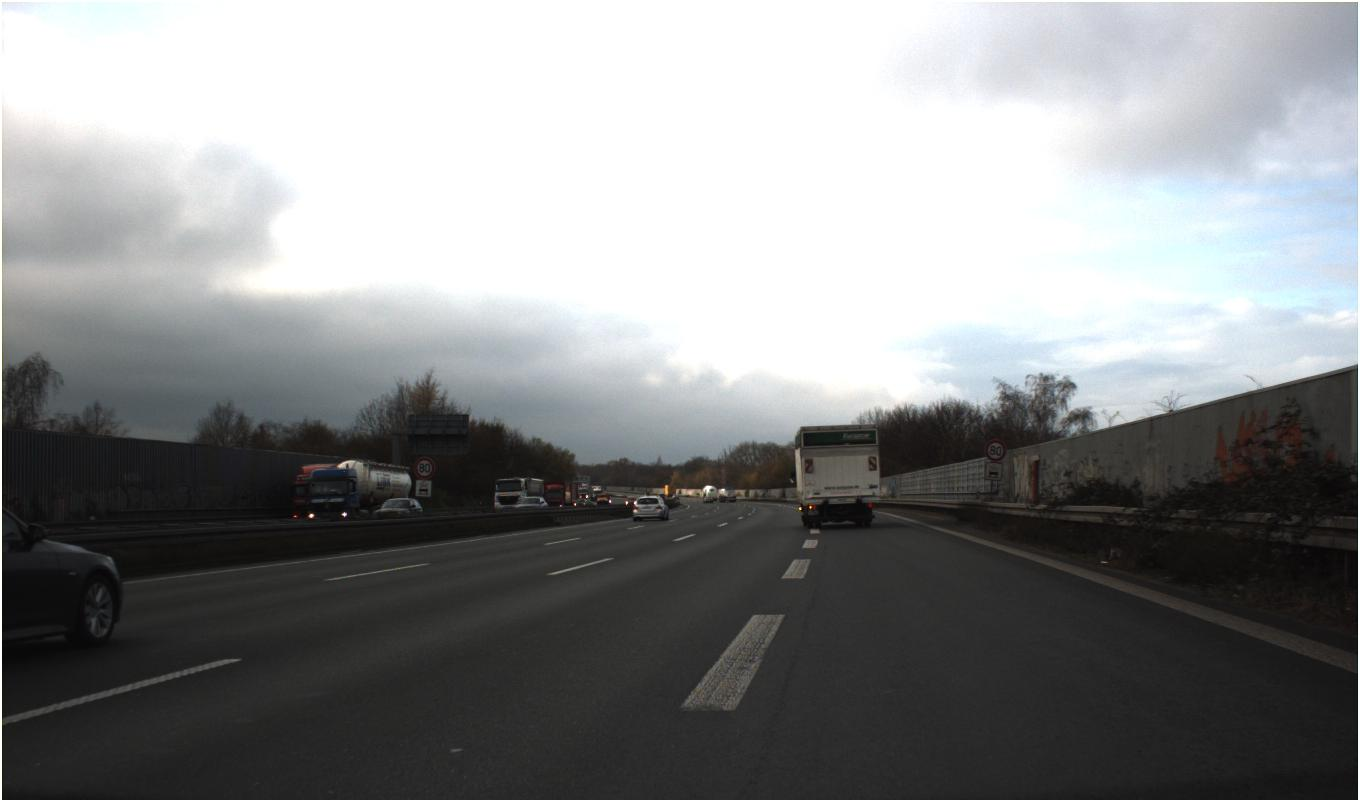prohibitory: (983, 438, 1006, 462), (413, 456, 436, 479)
